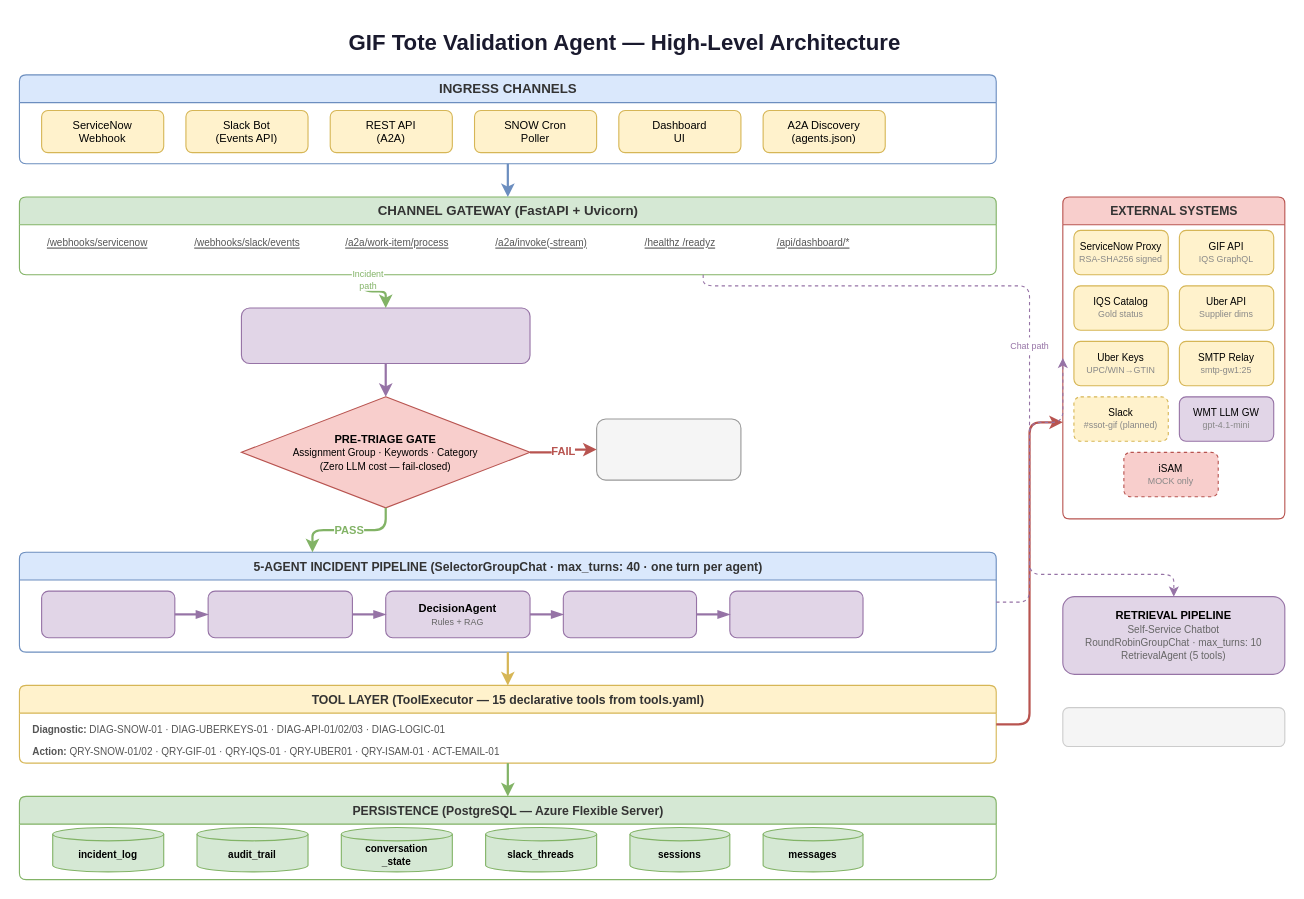
Image size: 1304x899. Some labels were removed from this diagram. The shapes that lost their labels are listed below. From the top down, each one's centre as x and y in pixels, then its label:
pixel 385 335: AgentRuntime Pack resolution · Team lifecycle · Retry logic
pixel 668 449: SKIP Log to incident_log status=skipped
pixel 108 614: TriageAgent LLM-only
pixel 279 614: DiagnosticAgent 6 tools
pixel 629 614: ActionAgent 7 tools
pixel 796 614: ClosureAgent LLM-only
pixel 1173 726: OpenTelemetry → TraceStore / OpenObserve (observability)
